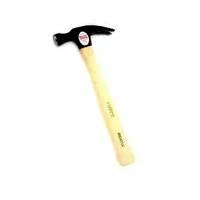hammer: (51, 24, 136, 166)
